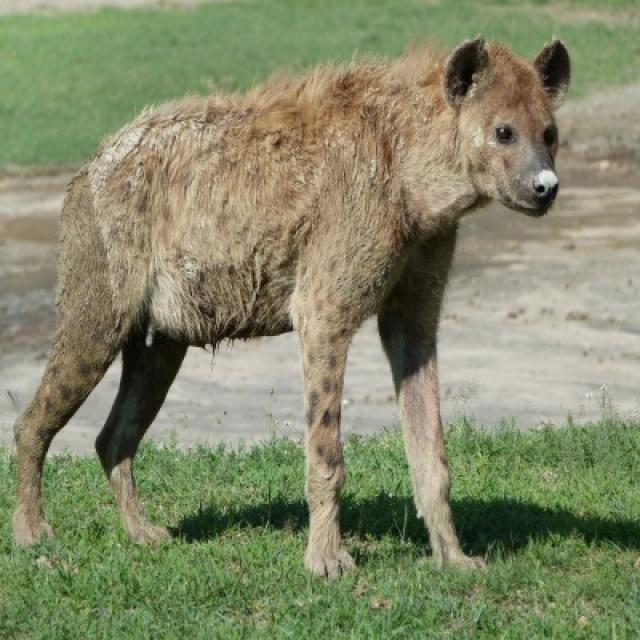hyena: (11, 38, 573, 582)
